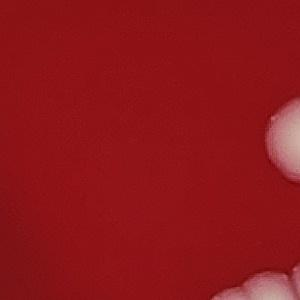colony: (259, 92, 300, 188), (234, 268, 300, 300), (202, 283, 262, 300), (282, 259, 300, 300)
